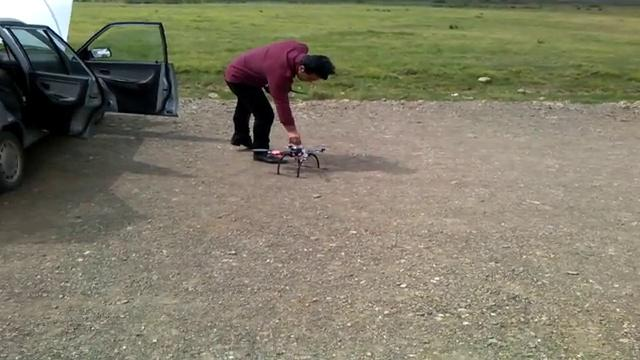drone: (252, 142, 328, 174)
